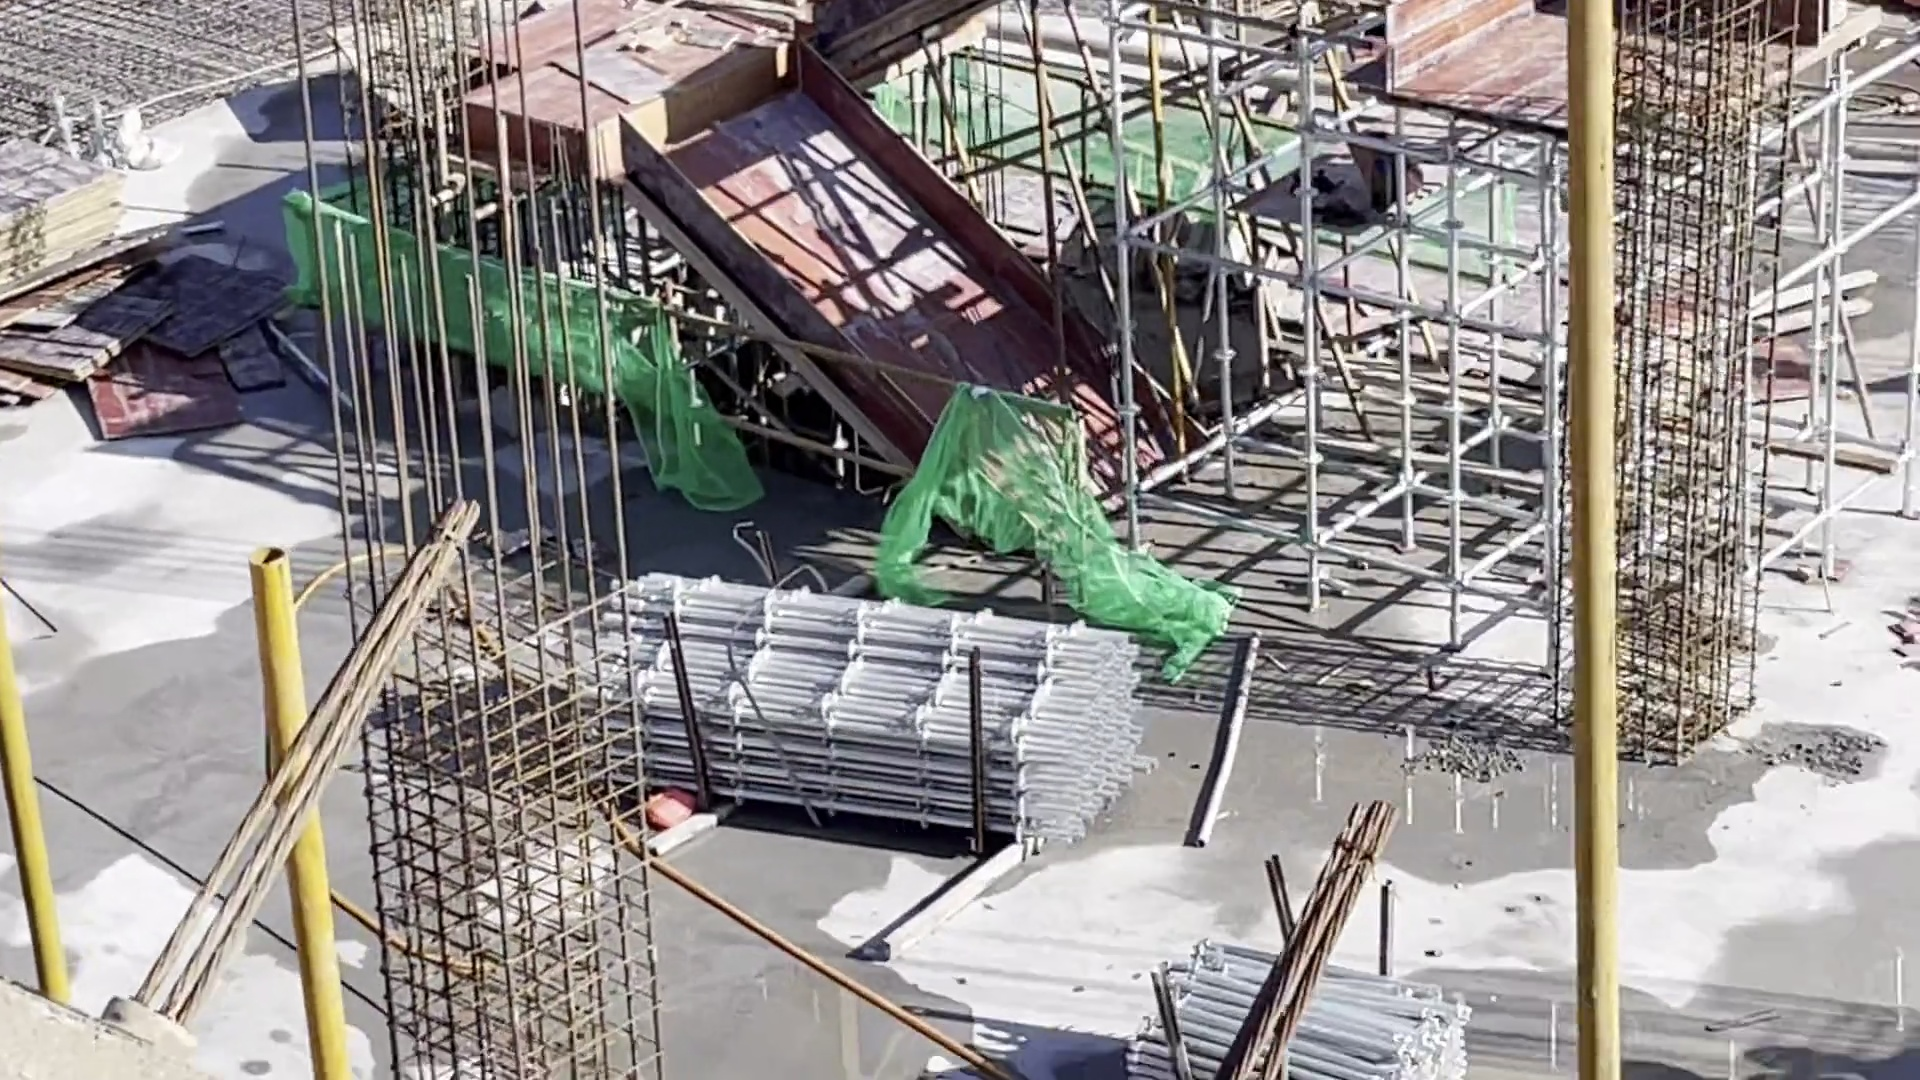board: (1, 137, 121, 287)
scaffold: (633, 567, 1145, 841), (1134, 945, 1472, 1080)
